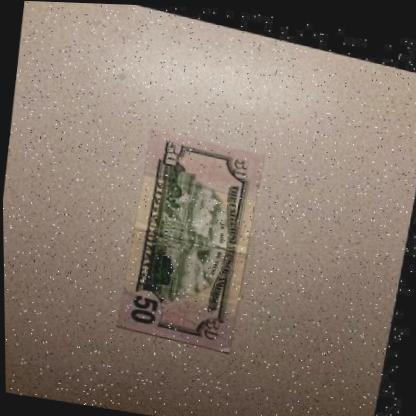fifty-back: (115, 120, 273, 349)
